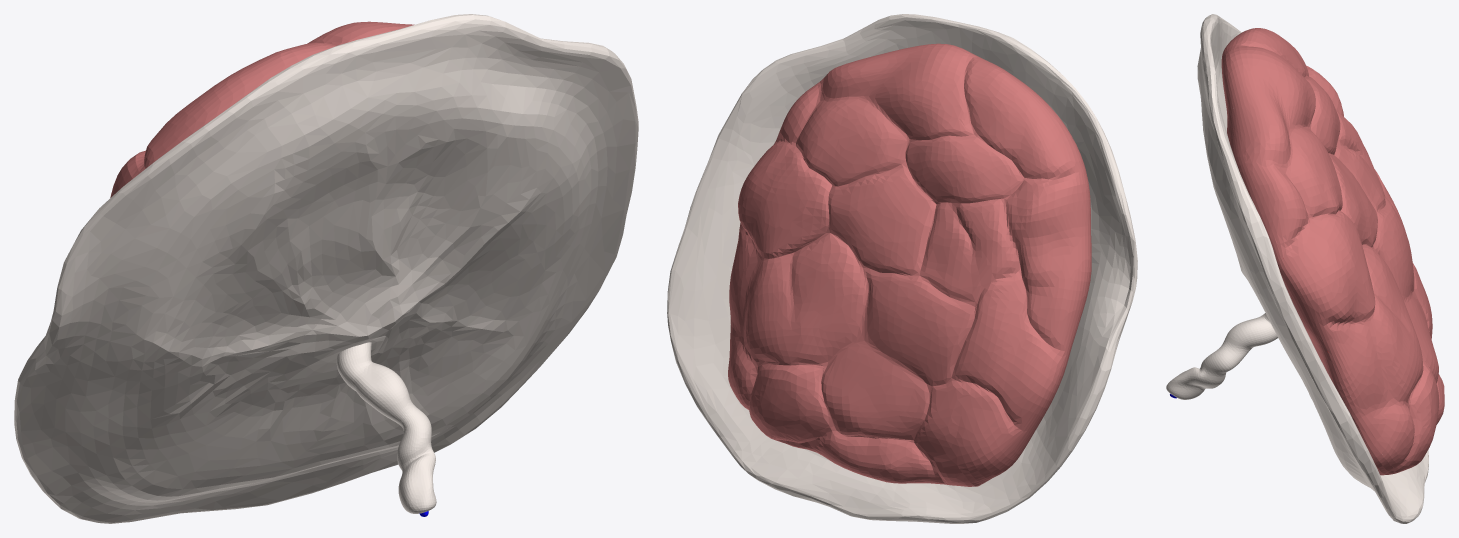
Rendered from VH_F_Placenta_0.4.glb.
3 renders of one model, left to right at view 1: azimuth 30°, elevation 25°; view 2: azimuth 150°, elevation 25°; view 3: azimuth 270°, elevation 25°, orthographic. The views are drawn at different scales.
Parts seen in each view (by area): view 1: VH_F_amnion, VH_F_basal_plate, VH_F_umbilical_cord; view 2: VH_F_basal_plate, VH_F_amnion; view 3: VH_F_basal_plate, VH_F_amnion, VH_F_chorionic_plate, VH_F_umbilical_cord.
Part boxes in pixels (x1,y1,x2,y2): VH_F_amnion: (14,14,638,523); VH_F_basal_plate: (110,21,414,197); VH_F_umbilical_cord: (336,342,436,513); VH_F_basal_plate: (728,43,1090,486); VH_F_amnion: (667,14,1137,523); VH_F_basal_plate: (1224,28,1444,471); VH_F_amnion: (1197,14,1428,523); VH_F_chorionic_plate: (1221,46,1401,475); VH_F_umbilical_cord: (1166,313,1277,399).
Size of the model in its own units: 0.2511 by 0.2306 by 0.1338.
